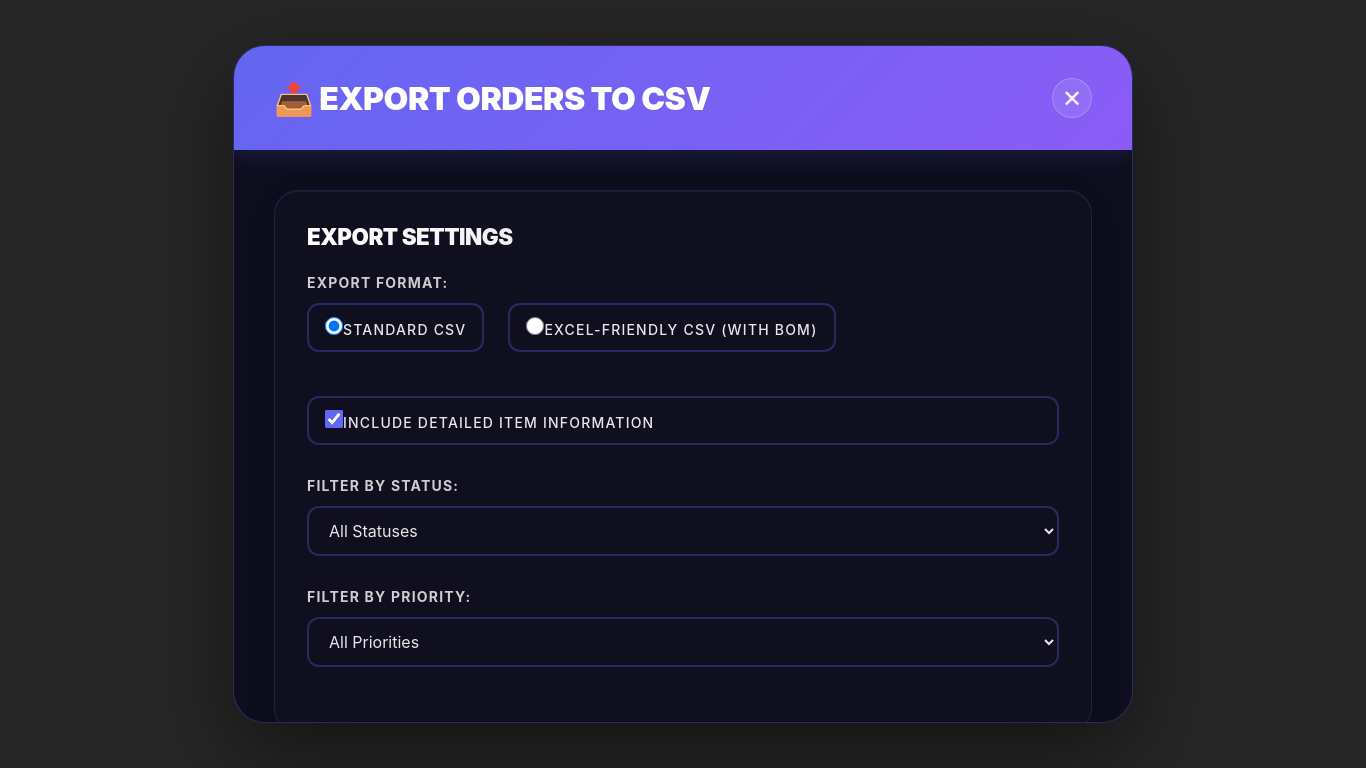
Test case: CSVExport › filters orders by status
# Filter to show only completed orders
Select "Completed" in the dropdown labelled "Filter by Status:". click: [683, 531]
box: [307,506,1059,556]
(page scrolled)
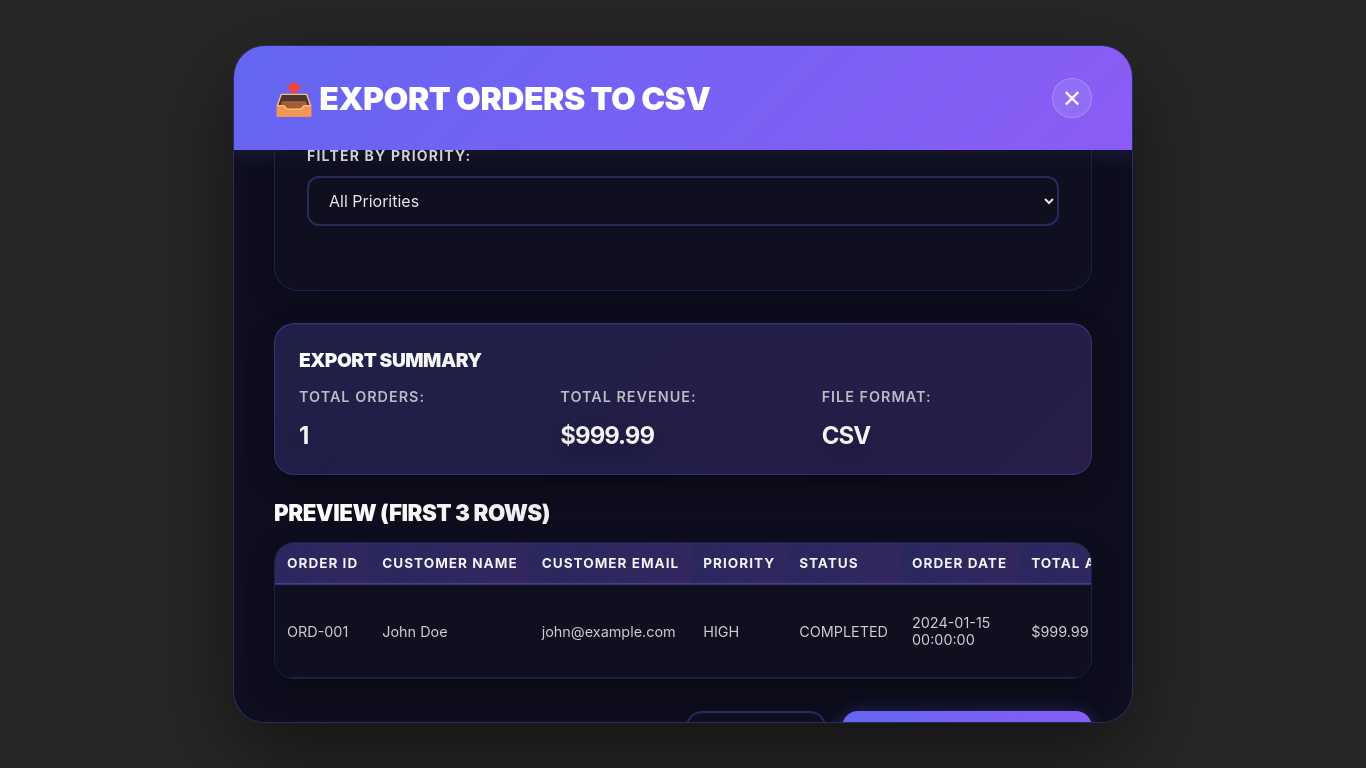
expect the text "1" is shown: met, box [299,421,308,450]
